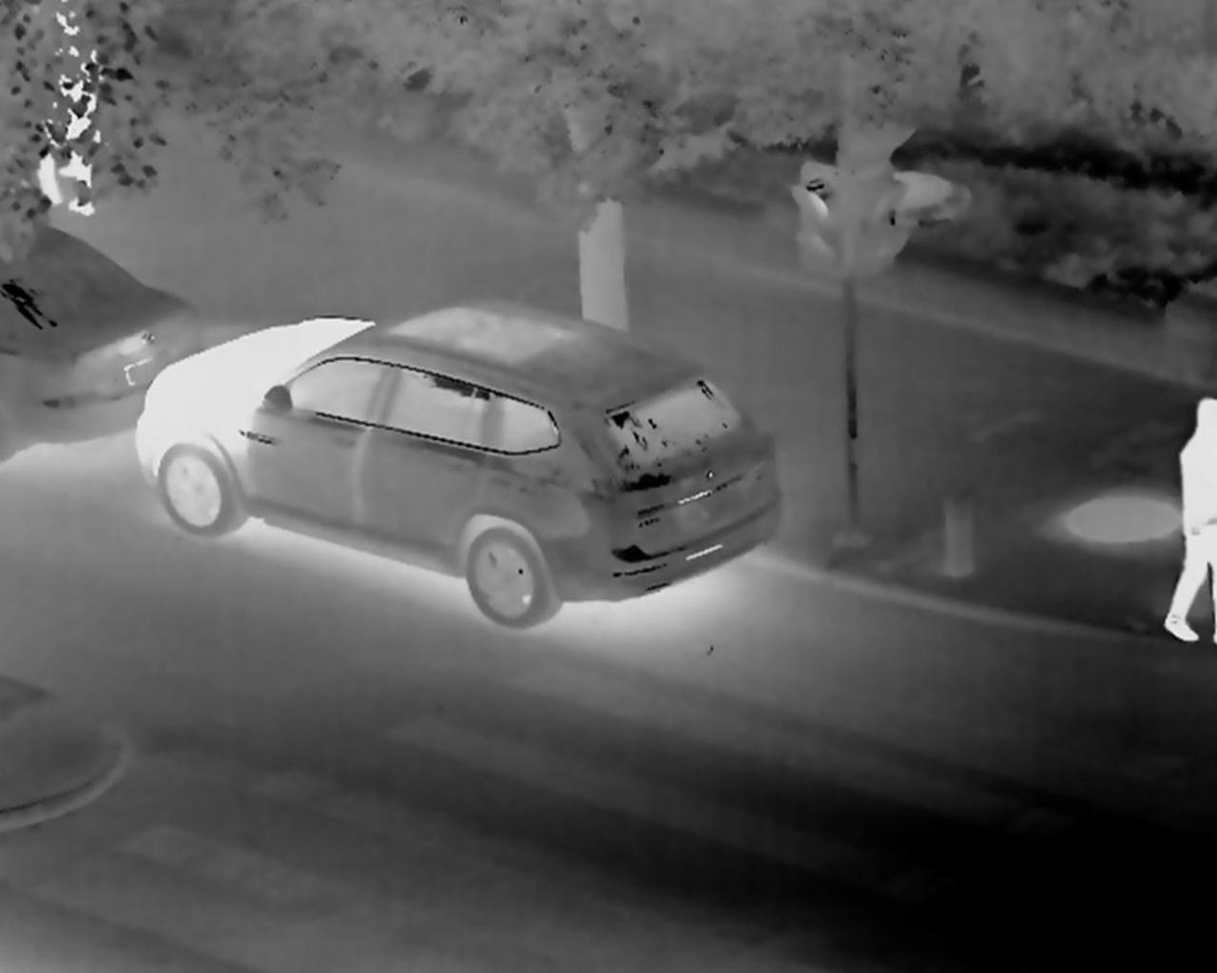person: (34, 3, 104, 216), (1169, 391, 1212, 646)
